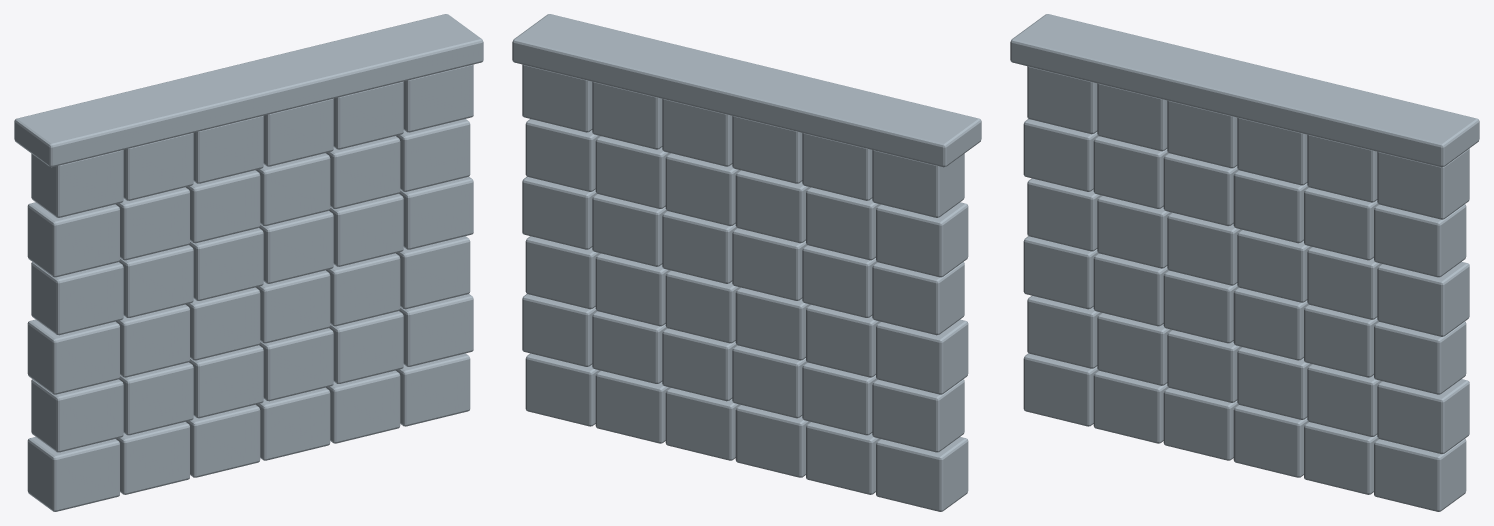
File: a3_wall.glb
3 views of the same model, side by side, from view 1: azimuth 30°, elevation 25°; view 2: azimuth 150°, elevation 25°; view 3: azimuth 330°, elevation 25° (orthographic).
Parts seen in each view (by area): view 1: Body.021; view 2: Body.021; view 3: Body.021.
Boxes of the visible parts, x1=… form: Body.021: x1=14, y1=14, x2=483, y2=511; Body.021: x1=512, y1=14, x2=981, y2=511; Body.021: x1=1010, y1=14, x2=1479, y2=511.
Bounding box in the file's own units: 3.1 × 2.55 × 0.46.
